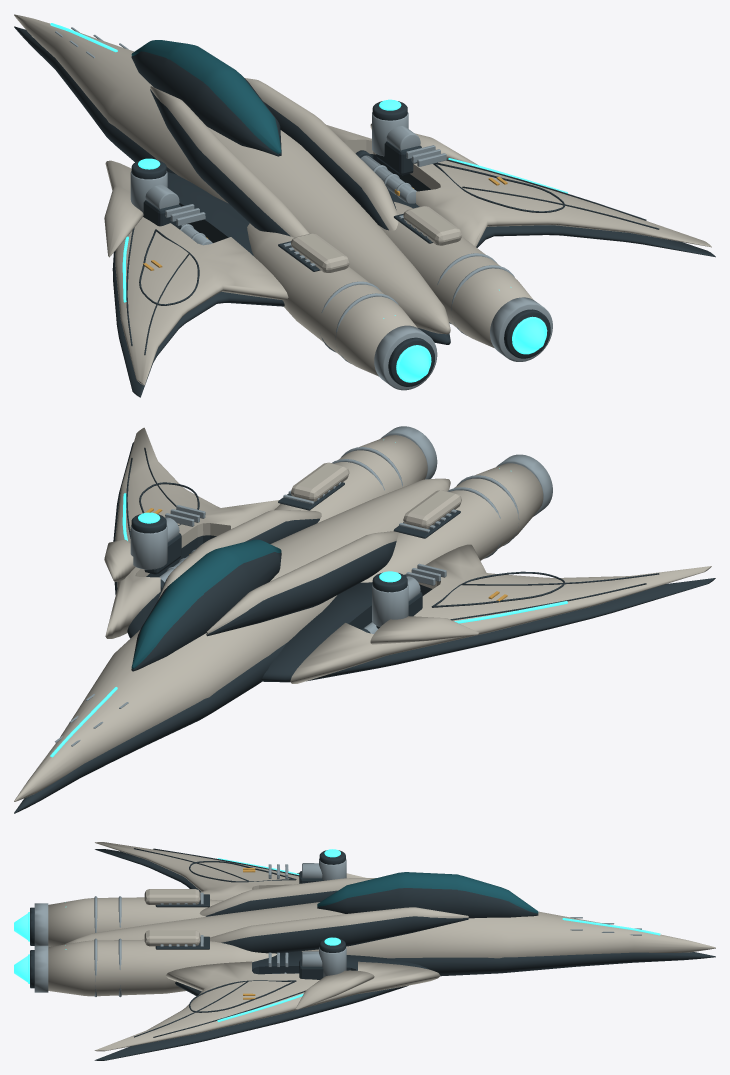
The model's file is assault-0.glb.
3 renders of one model, top to bottom at view 1: azimuth 30°, elevation 25°; view 2: azimuth 150°, elevation 25°; view 3: azimuth 270°, elevation 25°, orthographic. The views are drawn at different scales.
Visible parts, largest first — view 1: SM_Hull, SM_Wing_Left, SM_Wing_Right, SM_Engine_Left, SM_Engine_Right, SM_Stage03, SM_Stage04, SM_Stage01, SM_Stage02, SM_Weapon_Right; view 2: SM_Hull, SM_Wing_Left, SM_Engine_Left, SM_Wing_Right, SM_Engine_Right, SM_Stage03, SM_Stage04, SM_Stage02, SM_Stage01; view 3: SM_Hull, SM_Wing_Right, SM_Engine_Right, SM_Engine_Left, SM_Wing_Left, SM_Stage03, SM_Stage04, SM_Stage02, SM_Stage01.
Part boxes in pixels (x1=…): SM_Hull: x1=14, y1=14, x2=450, y2=344; SM_Wing_Left: x1=105, y1=160, x2=288, y2=397; SM_Wing_Right: x1=327, y1=125, x2=715, y2=257; SM_Engine_Left: x1=247, y1=223, x2=437, y2=390; SM_Engine_Right: x1=379, y1=202, x2=552, y2=361; SM_Stage03: x1=165, y1=145, x2=461, y2=272; SM_Stage04: x1=130, y1=99, x2=408, y2=213; SM_Stage01: x1=143, y1=126, x2=421, y2=229; SM_Stage02: x1=104, y1=123, x2=478, y2=257; SM_Weapon_Right: x1=355, y1=150, x2=416, y2=203; SM_Hull: x1=14, y1=478, x2=450, y2=813; SM_Wing_Left: x1=261, y1=544, x2=715, y2=683; SM_Engine_Left: x1=361, y1=454, x2=552, y2=582; SM_Wing_Right: x1=105, y1=427, x2=280, y2=638; SM_Engine_Right: x1=274, y1=426, x2=437, y2=522; SM_Stage03: x1=165, y1=462, x2=461, y2=585; SM_Stage04: x1=130, y1=512, x2=408, y2=626; SM_Stage02: x1=104, y1=539, x2=479, y2=644; SM_Stage01: x1=144, y1=517, x2=422, y2=628; SM_Hull: x1=64, y1=872, x2=715, y2=976; SM_Wing_Right: x1=94, y1=951, x2=440, y2=1060; SM_Engine_Right: x1=14, y1=935, x2=276, y2=997; SM_Engine_Left: x1=14, y1=892, x2=223, y2=947; SM_Wing_Left: x1=95, y1=842, x2=299, y2=900; SM_Stage03: x1=144, y1=864, x2=288, y2=967; SM_Stage04: x1=319, y1=849, x2=346, y2=977; SM_Stage02: x1=295, y1=872, x2=374, y2=1009; SM_Stage01: x1=299, y1=863, x2=323, y2=979.
Bounding box in the file's own units: 7.16 × 1.58 × 10.08.
